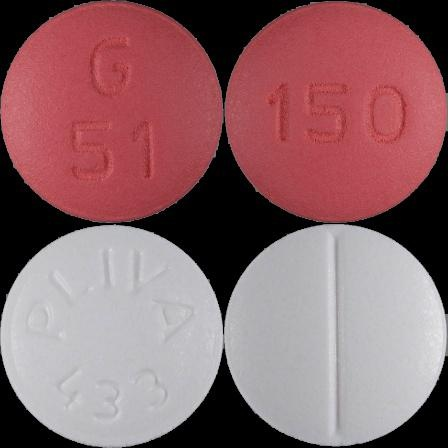66267-188: (0, 0, 224, 224)
